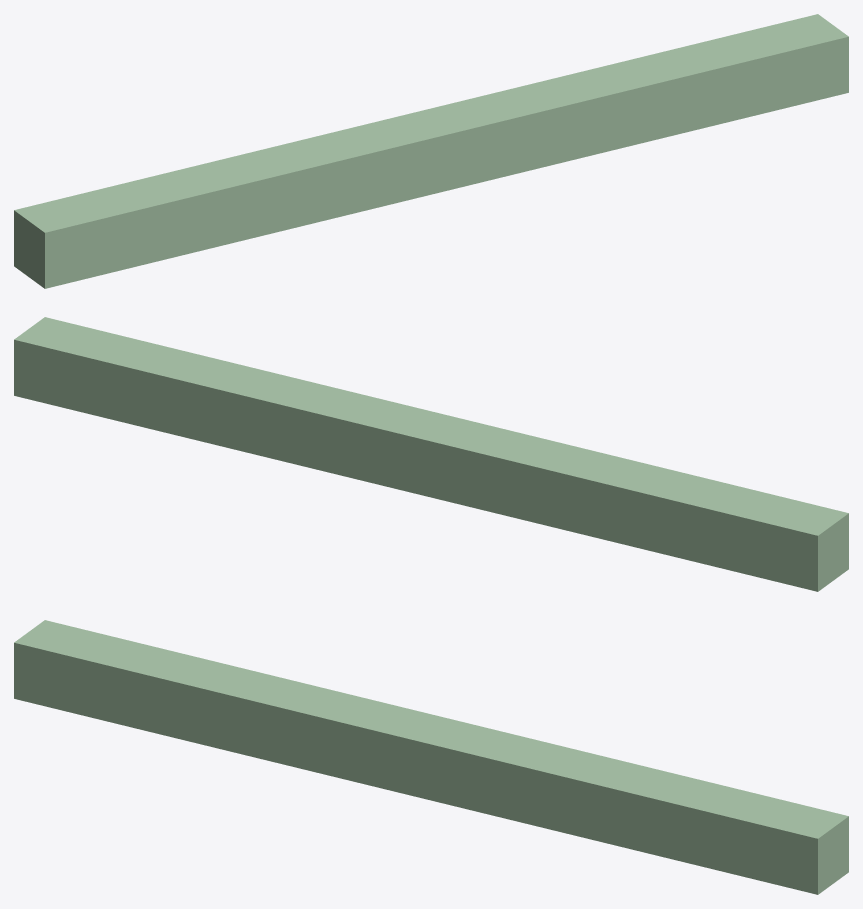
File: Fluorescent.gltf
3 views of the same model, one above another, from view 1: azimuth 30°, elevation 25°; view 2: azimuth 150°, elevation 25°; view 3: azimuth 330°, elevation 25° (orthographic).
Visible parts, largest first — view 1: Layer.1; view 2: Layer.1; view 3: Layer.1.
Boxes of the visible parts, x1,y1,x2,y2 form: Layer.1: (14, 14, 848, 288); Layer.1: (14, 317, 848, 591); Layer.1: (14, 620, 848, 894).
Size of the model in its own units: 15 by 1 by 1.
